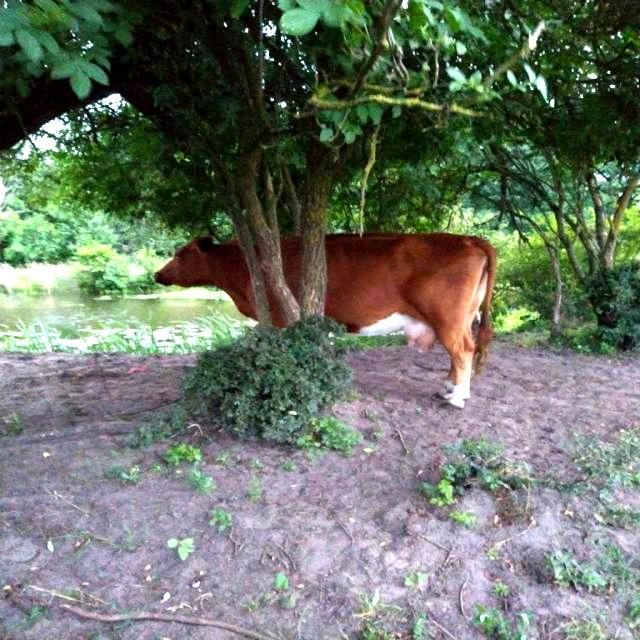COW: (325, 232, 495, 407), (325, 234, 496, 407), (155, 238, 255, 318), (155, 238, 255, 317), (281, 238, 300, 293)
